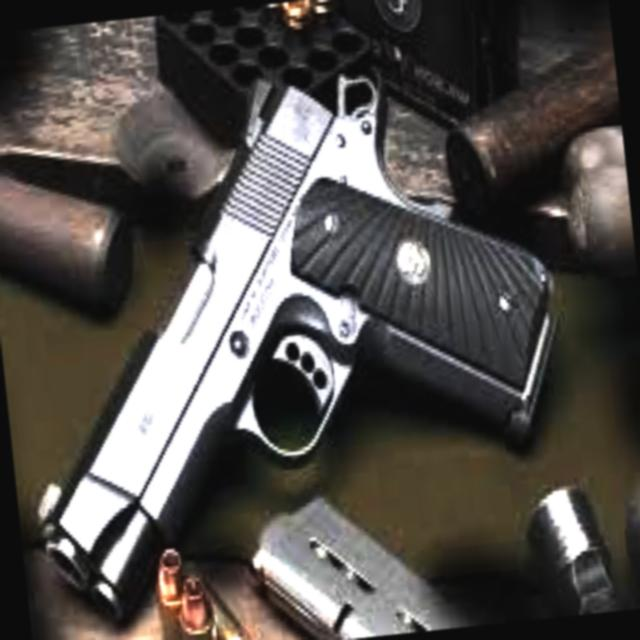semi automatic: (0, 15, 606, 640)
